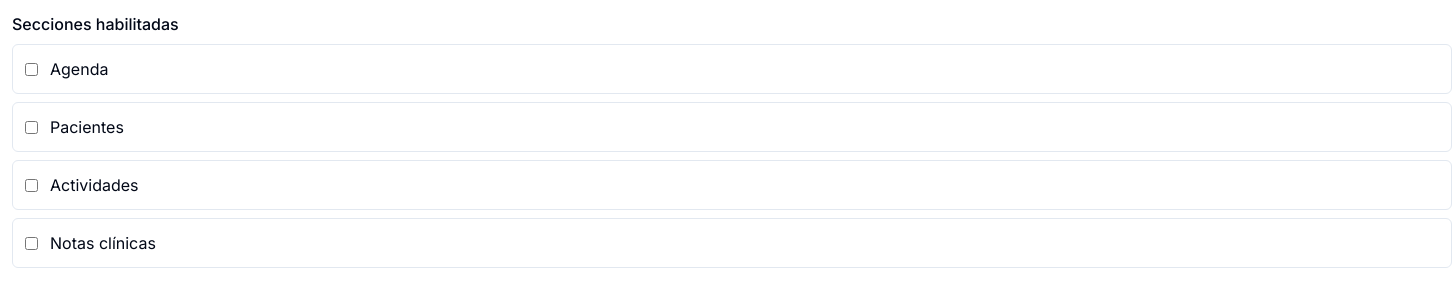
it: SectionChecklist › checks Pacientes when a section that depends on it is checked
The width and height of the screenshot is (1452, 285).
Click the checkbox labelled "Actividades" at (32, 185), box [25,178,38,192]
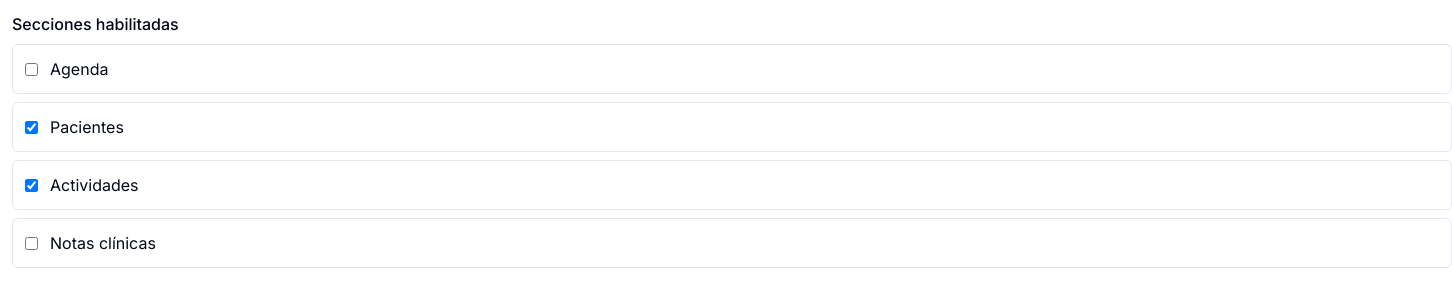
Expected: the checkbox labelled "Agenda" is not checked, [25,62,38,76]
Expected: the checkbox labelled "Actividades" is checked, [25,178,38,192]
Expected: the checkbox labelled "Pacientes" is checked, [25,120,38,134]
